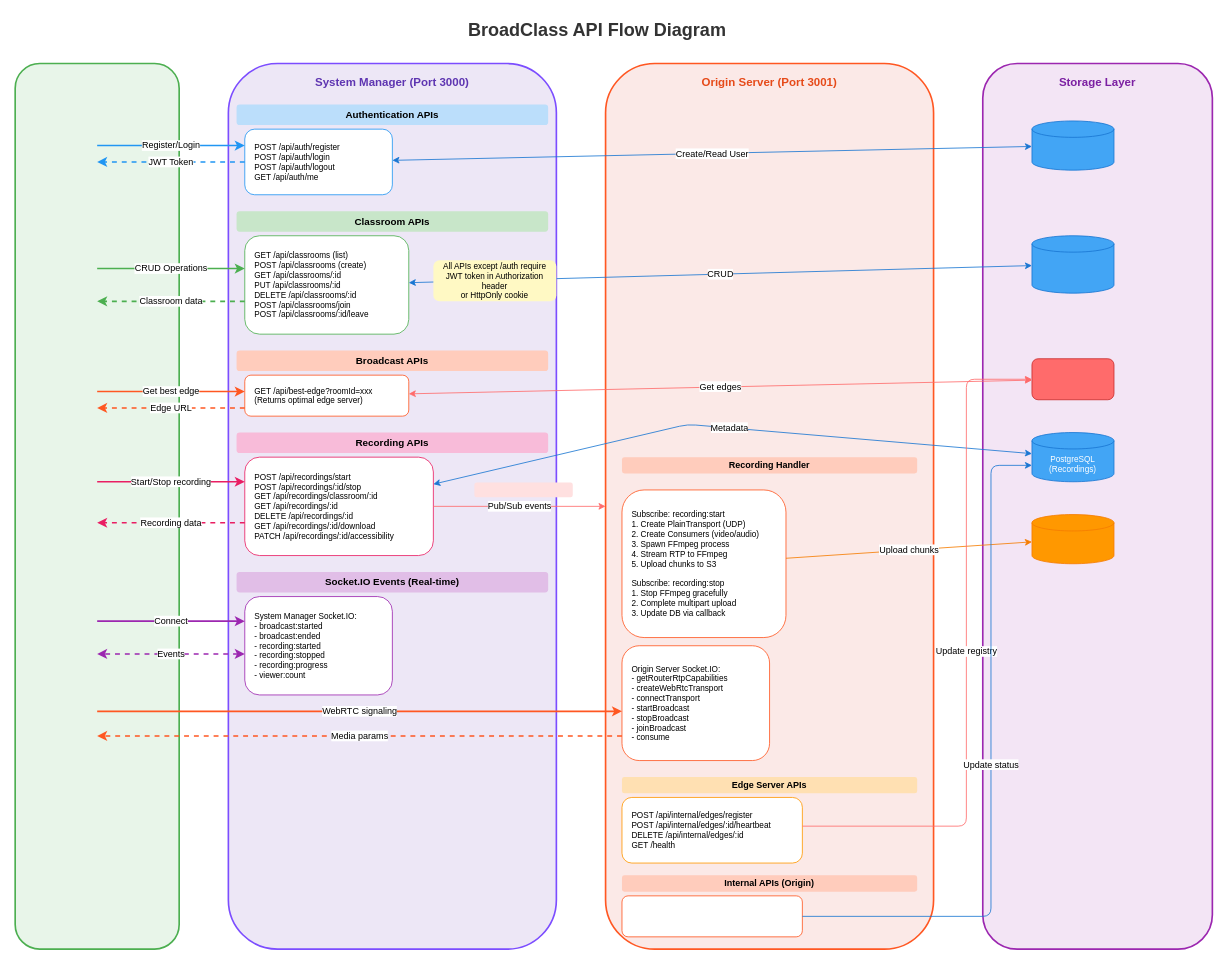
This 1227x964 diagram has some shape labels left out. Here are the shapes that lost their labels. From the top down, the centre of each, then its label:
(1072,145): PostgreSQL (Users table)
(1072,264): PostgreSQL (Classrooms, Enrollments)
(1072,379): Redis (Edge Registry)
(97,506): React Frontend
(523,489): recording:start/stop
(1072,539): AWS S3 (Video files)
(711,916): POST /api/internal/recording/callback (Update recording status after upload)
